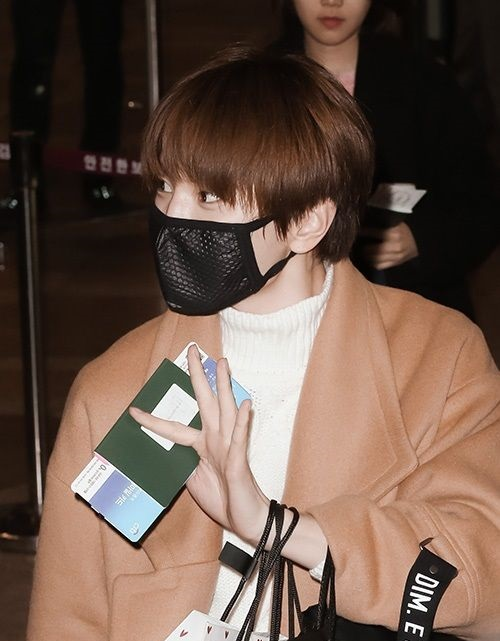face: (296, 1, 371, 43)
face_mask: (152, 117, 268, 311)
